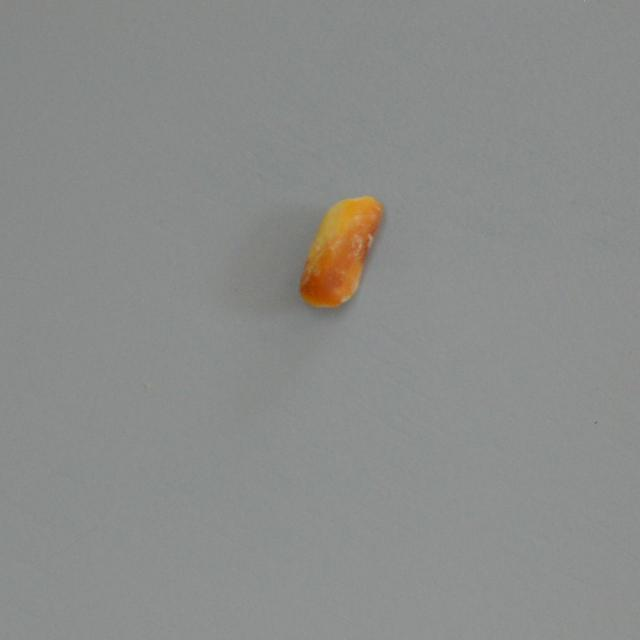dañado: (294, 193, 386, 316)
